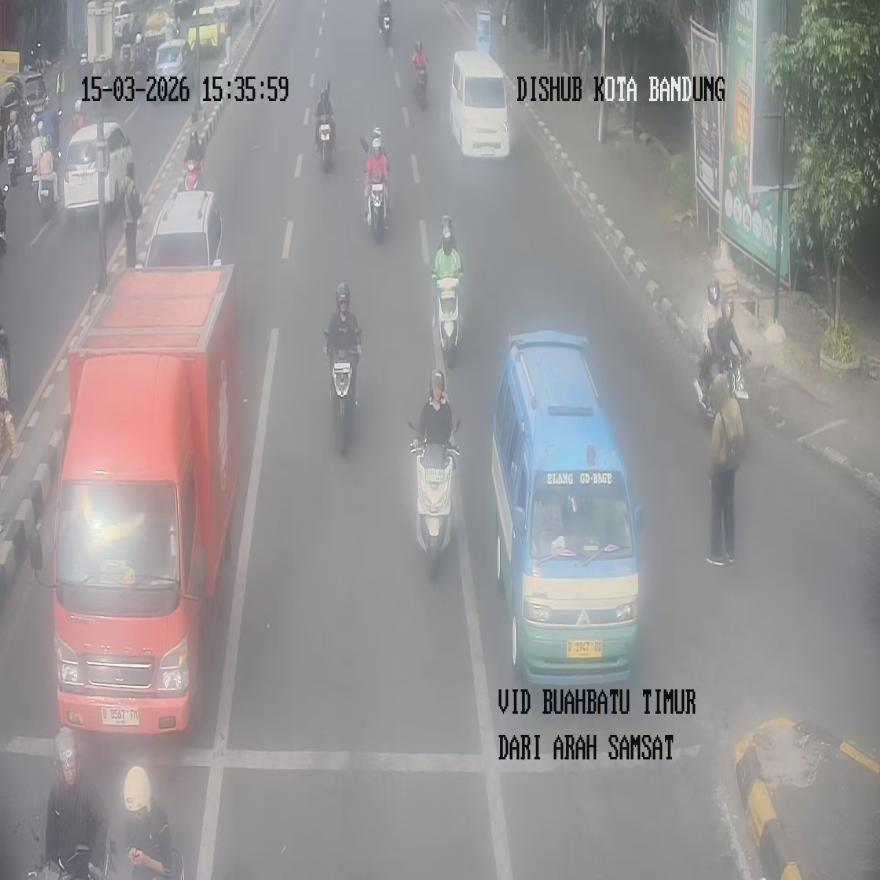Mobil: (490, 330, 643, 686), (138, 187, 223, 268), (450, 51, 509, 157)
Motor: (408, 421, 459, 576), (124, 765, 173, 878), (27, 824, 113, 880), (325, 335, 357, 453), (112, 838, 184, 880), (435, 274, 460, 366), (366, 178, 386, 242), (34, 165, 56, 216), (412, 41, 427, 107), (7, 152, 32, 188), (317, 117, 333, 171), (378, 0, 392, 43), (184, 157, 201, 191), (0, 184, 8, 254)
Truk ringan: (30, 263, 238, 734)
